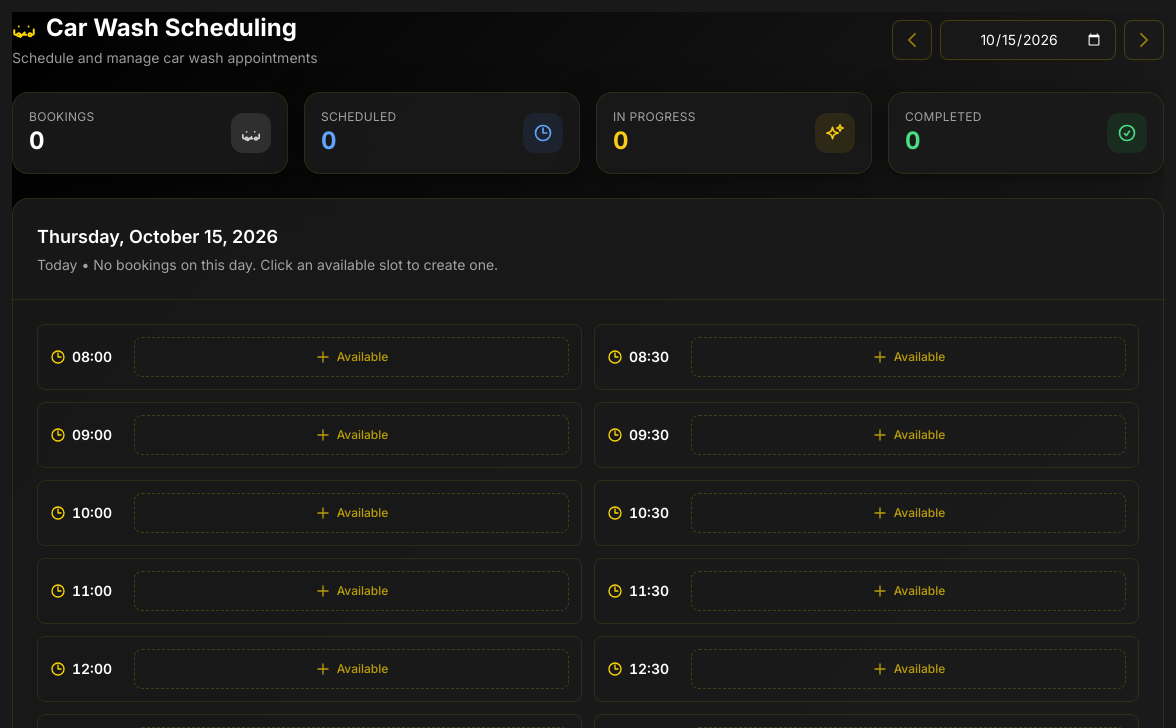
Car Wash "today" uses India time › labels earlier days Past and later days Future relative to the IST date
Click the button named "Previous day": x=912, y=40 top-left (892, 20), bottom-right (932, 60)
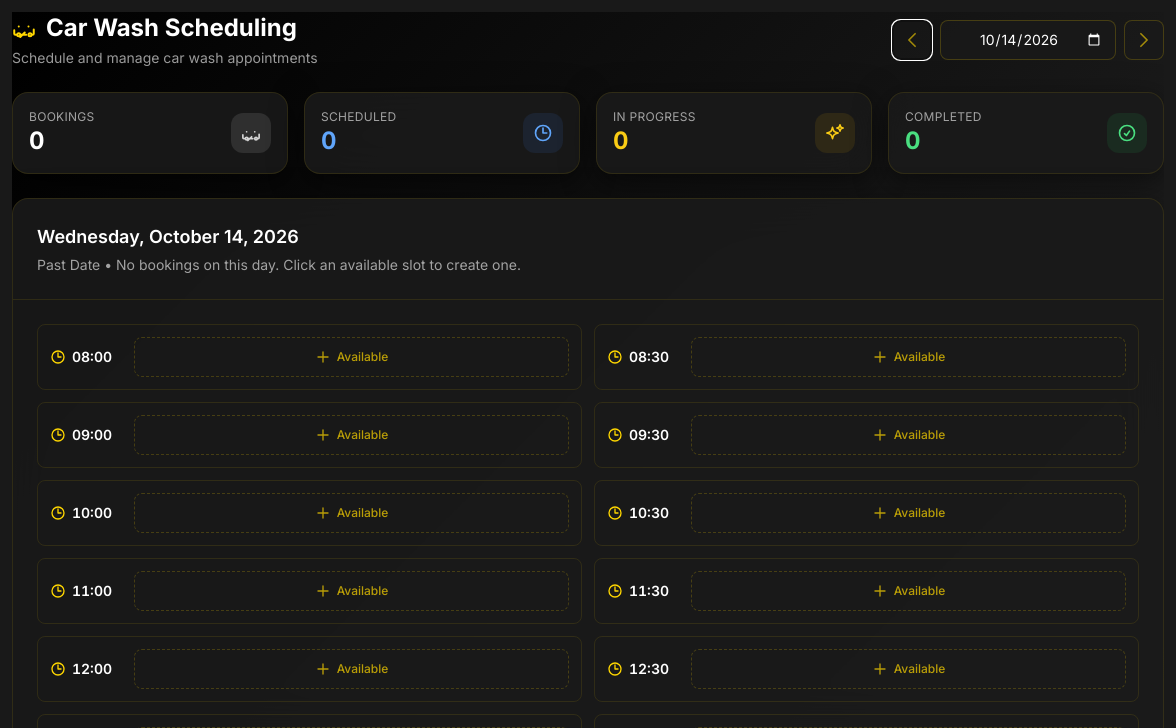
Now the date field named "Select date" holds "2026-10-14", box top-left (940, 20), bottom-right (1116, 60)
Now the text "Past Date •" is shown, box top-left (37, 256), bottom-right (521, 273)
Click the button named "Next day": x=1144, y=40 top-left (1124, 20), bottom-right (1164, 60)
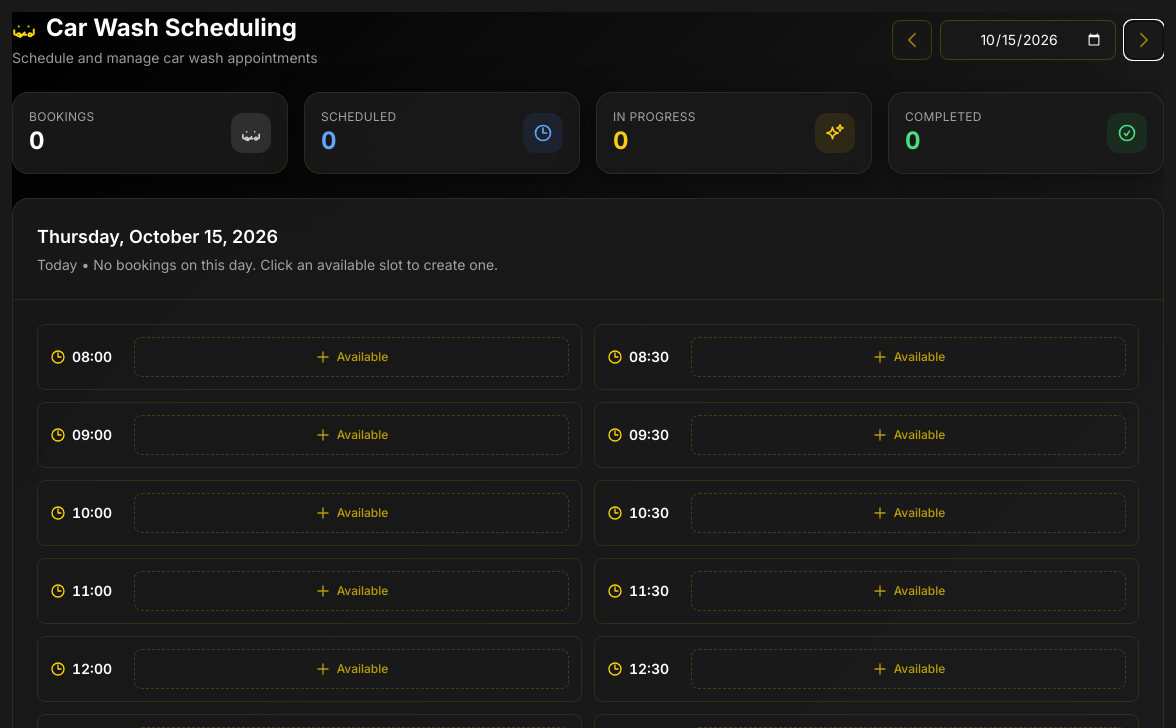
Click the button named "Next day": x=1144, y=40 top-left (1124, 20), bottom-right (1164, 60)
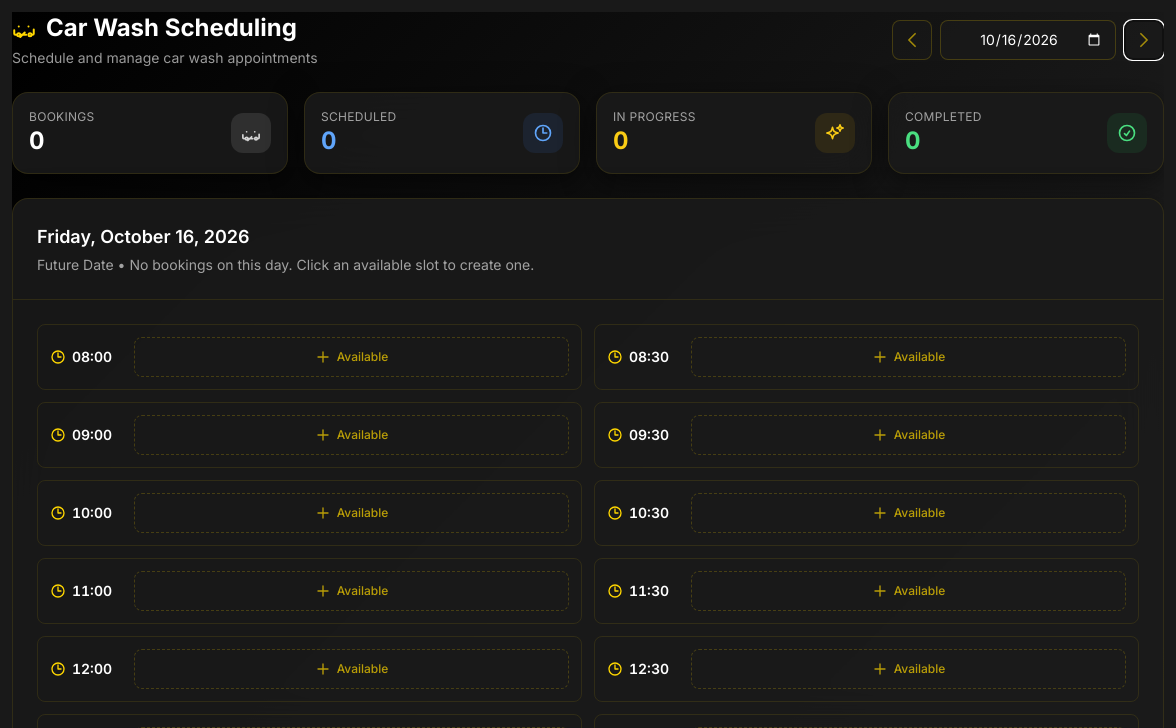
Now the date field named "Select date" holds "2026-10-16", box top-left (940, 20), bottom-right (1116, 60)
Now the text "Future Date •" is shown, box top-left (37, 256), bottom-right (534, 273)
